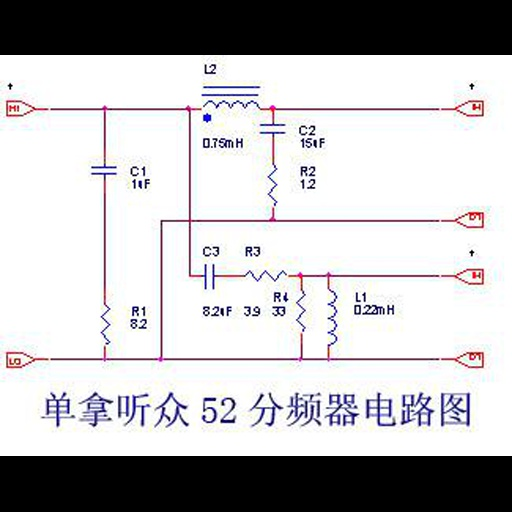capacitor: (197, 262, 226, 292), (256, 118, 291, 141), (87, 161, 121, 180)
inductor: (324, 282, 341, 354), (197, 97, 265, 113)
secondresistance: (262, 157, 286, 213), (94, 298, 118, 351), (239, 263, 289, 285), (293, 284, 312, 341)
